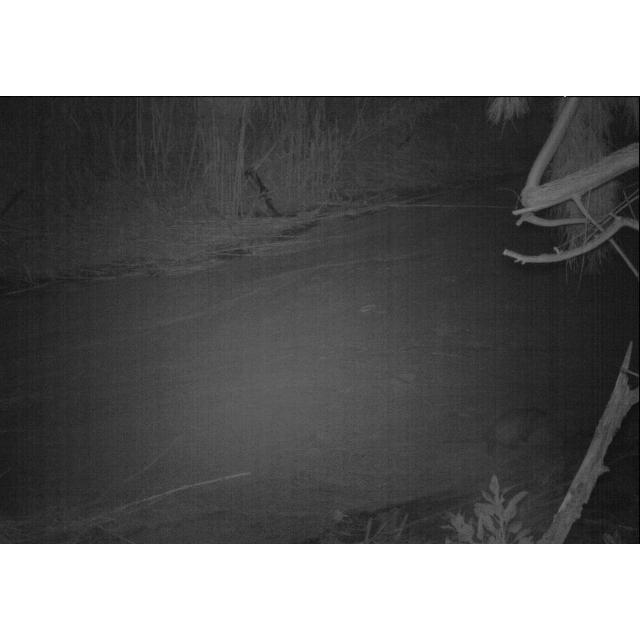animals: (446, 408, 550, 456)
